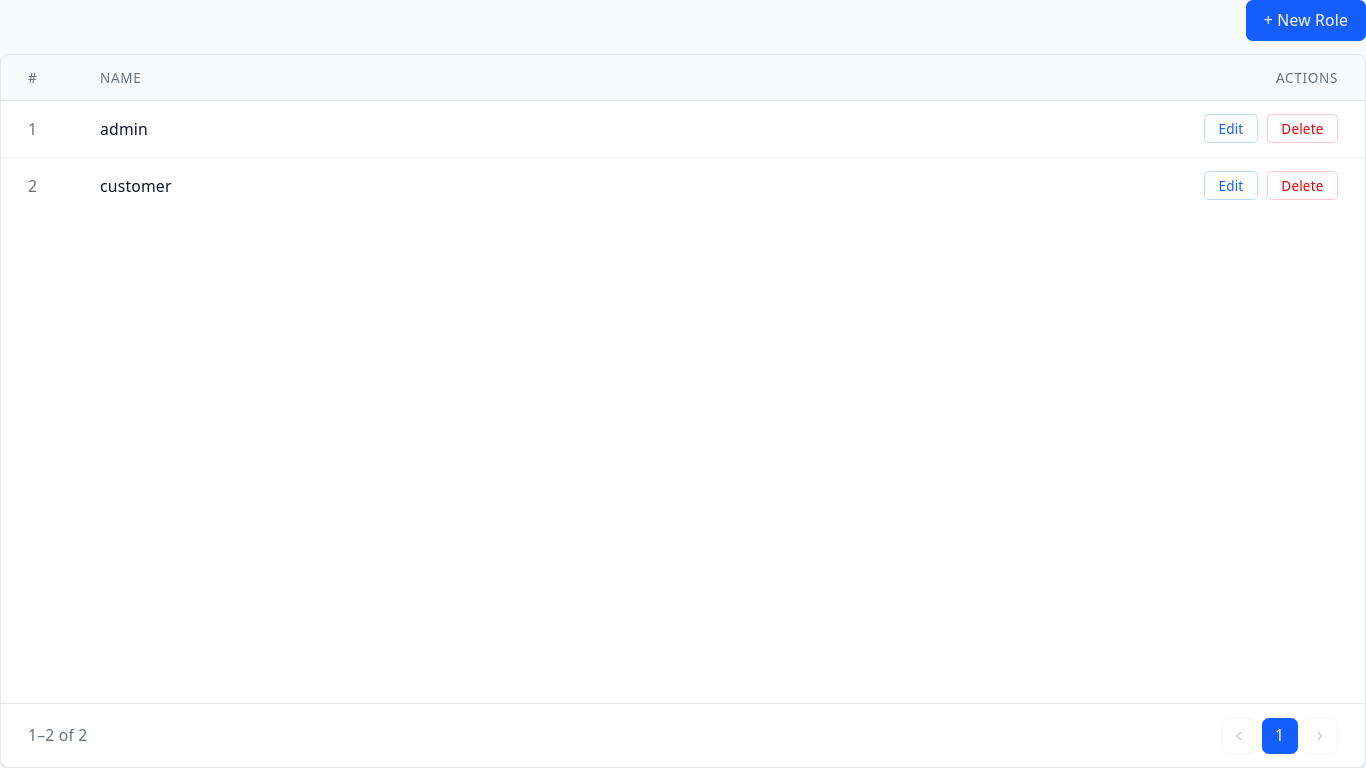
RoleList › opens "Create Role" modal when "+ New Role" is clicked
Click the button "+ New Role": [1306, 20] box [1246,0,1365,40]
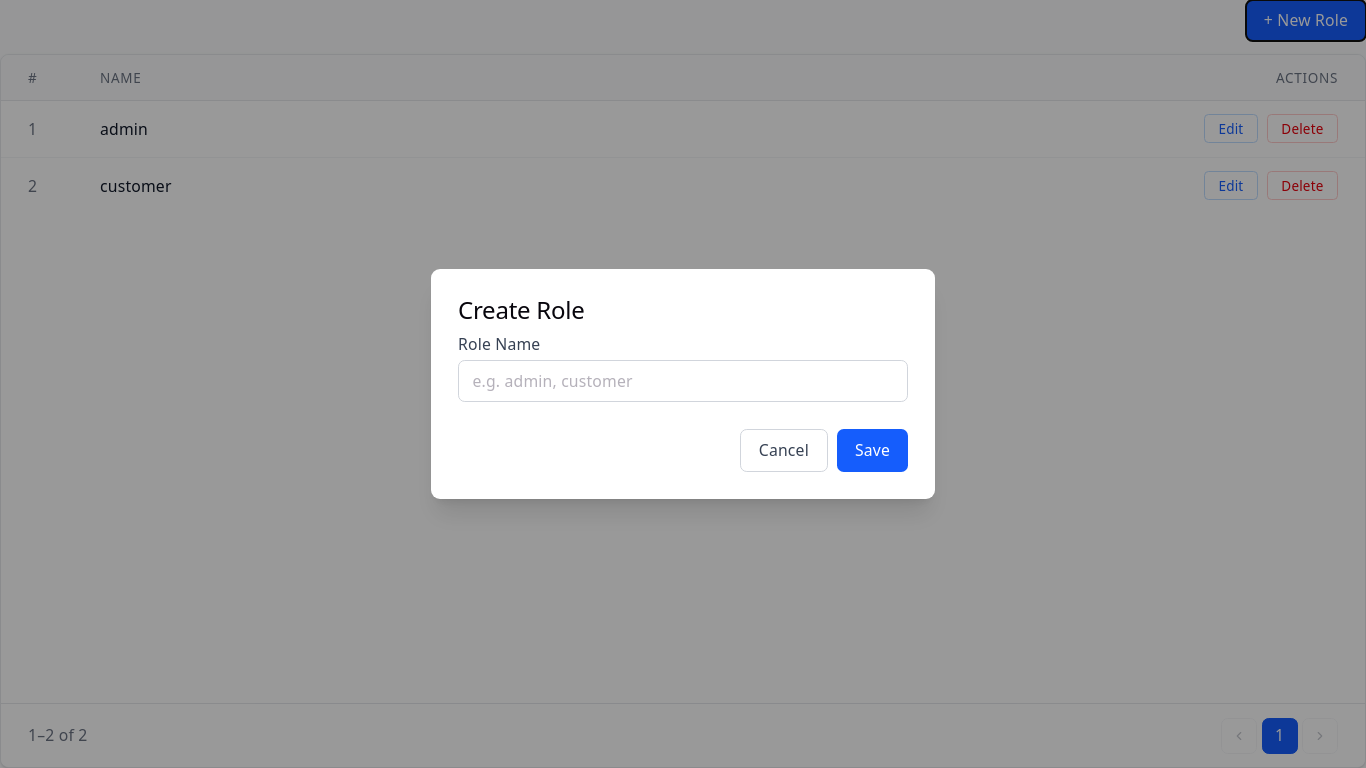
expect the heading "Create Role" is shown: met, box [458,293,585,326]
